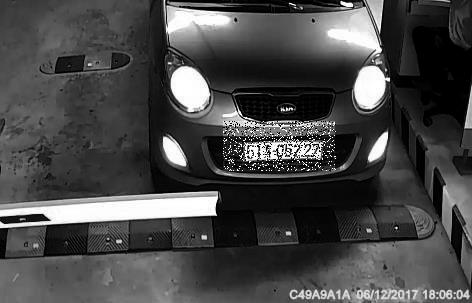License-plate: (225, 122, 338, 172)
